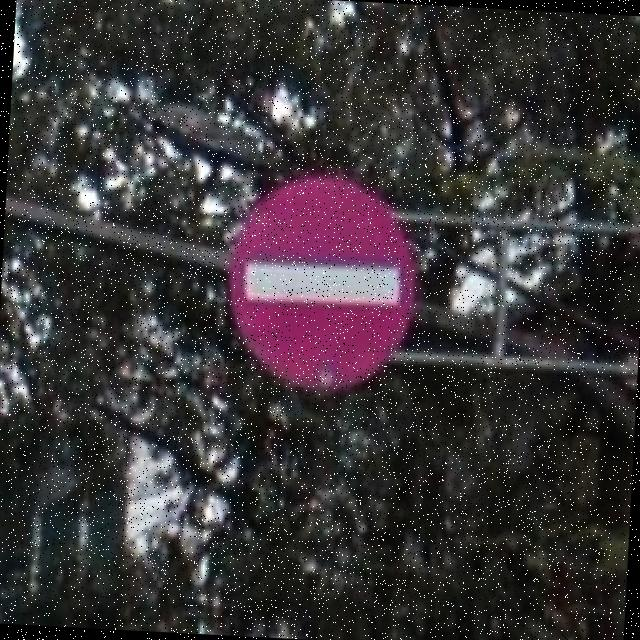Zakaz wjazdu: (227, 176, 418, 394)
